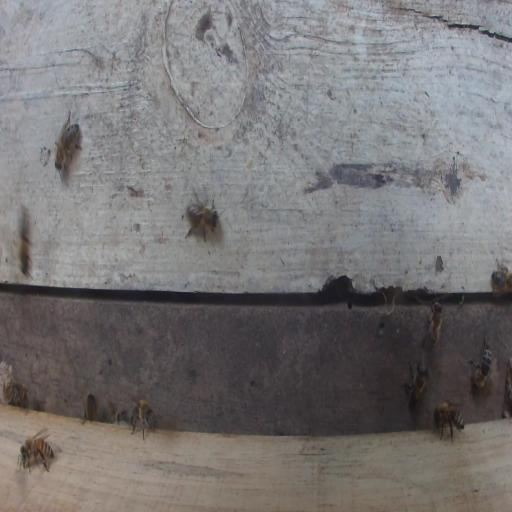bee: (183, 184, 221, 247), (54, 107, 82, 180), (17, 427, 56, 473), (400, 359, 430, 413), (468, 331, 492, 392), (433, 400, 465, 444), (128, 393, 155, 441), (421, 300, 443, 352), (491, 257, 511, 299), (81, 383, 99, 425), (12, 381, 29, 410)
